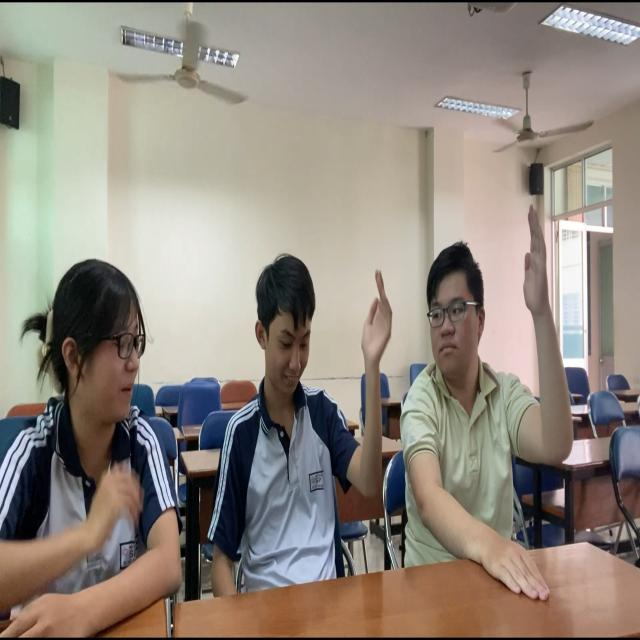raise_hand: (207, 238, 397, 606), (411, 211, 564, 583)
